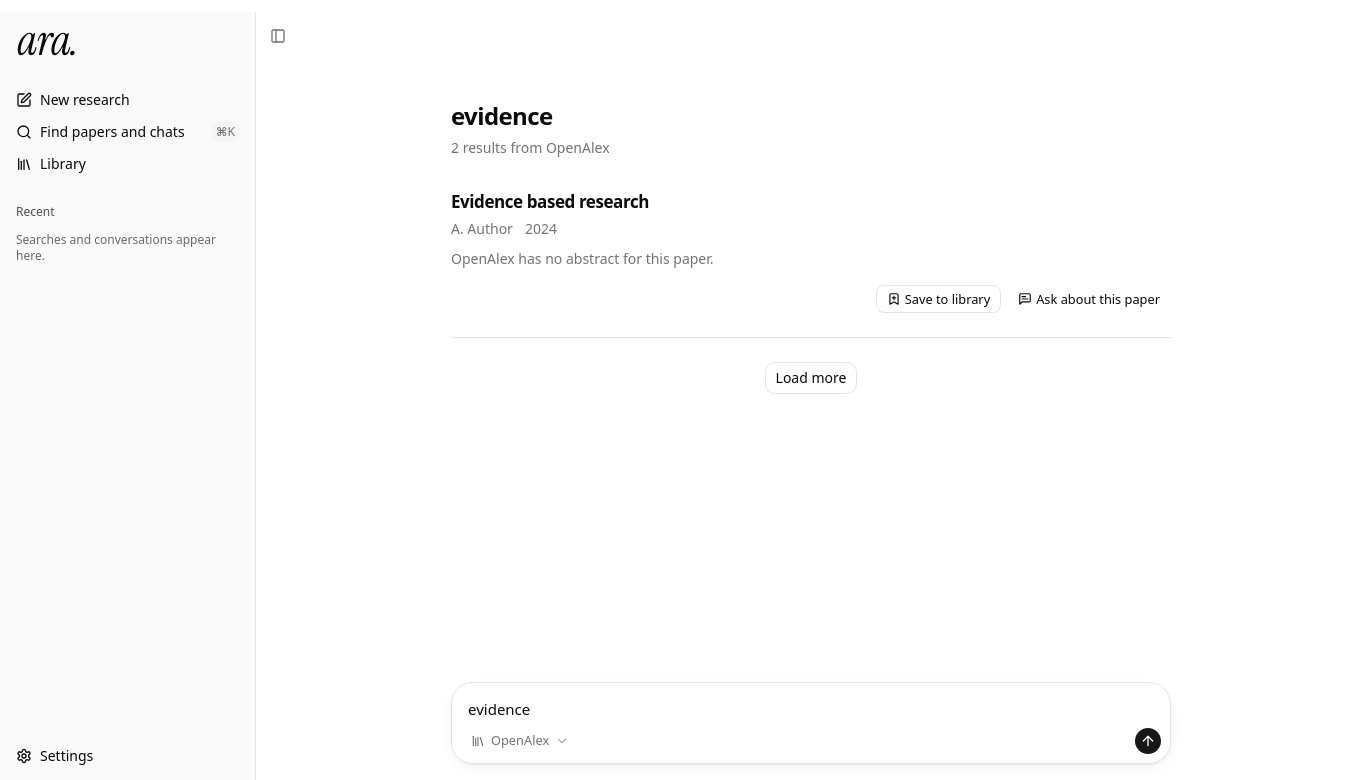
Test case: Given Load more fails, Then the loaded results stay and Try again fetches the next page
Click the button "Load more".
click(811, 378)  # box x1=765 y1=362 x2=858 y2=394
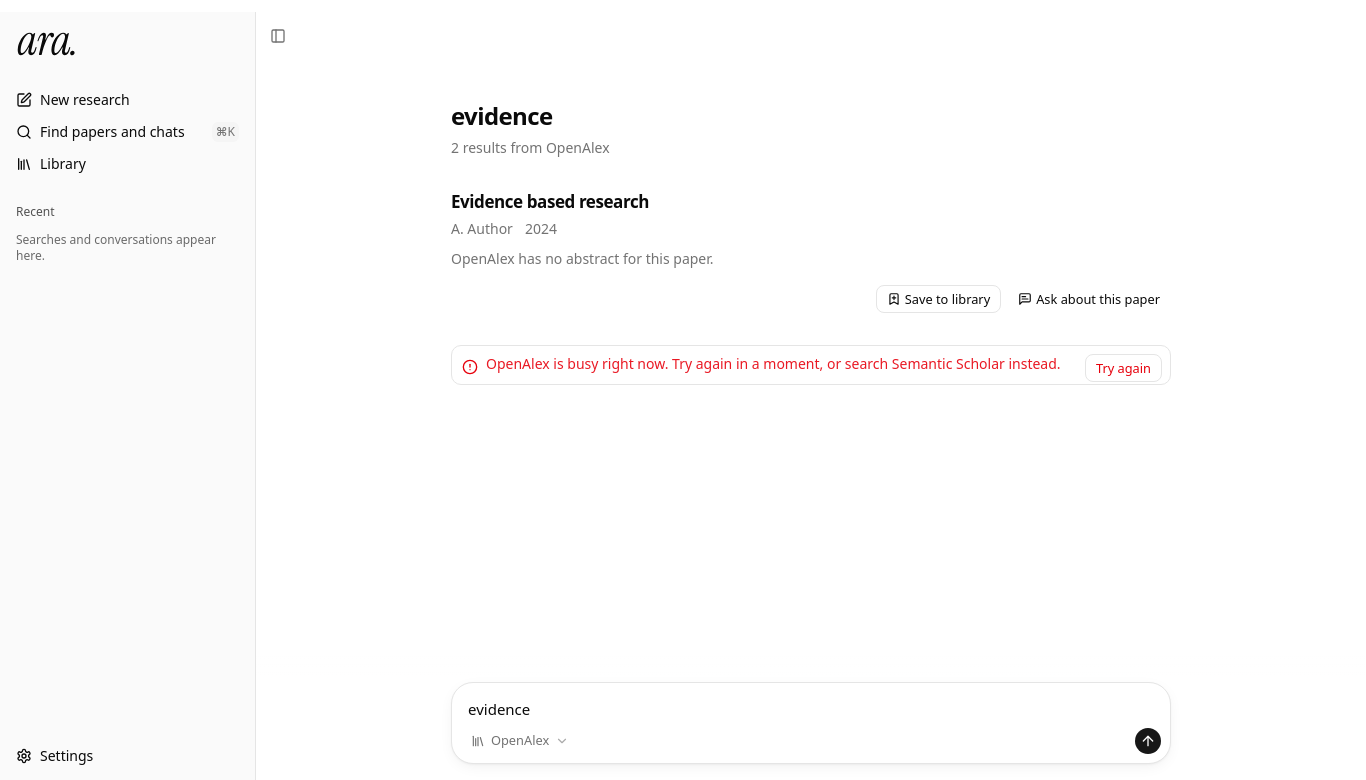
Expected: the element "Evidence based research" is shown, x1=451 y1=166 x2=1171 y2=337
Expected: the message shows "OpenAlex is busy", x1=486 y1=354 x2=1061 y2=373
Expected: the button "Load more" is gone
Click the button "Try again".
click(1123, 368)  # box x1=1085 y1=354 x2=1162 y2=382
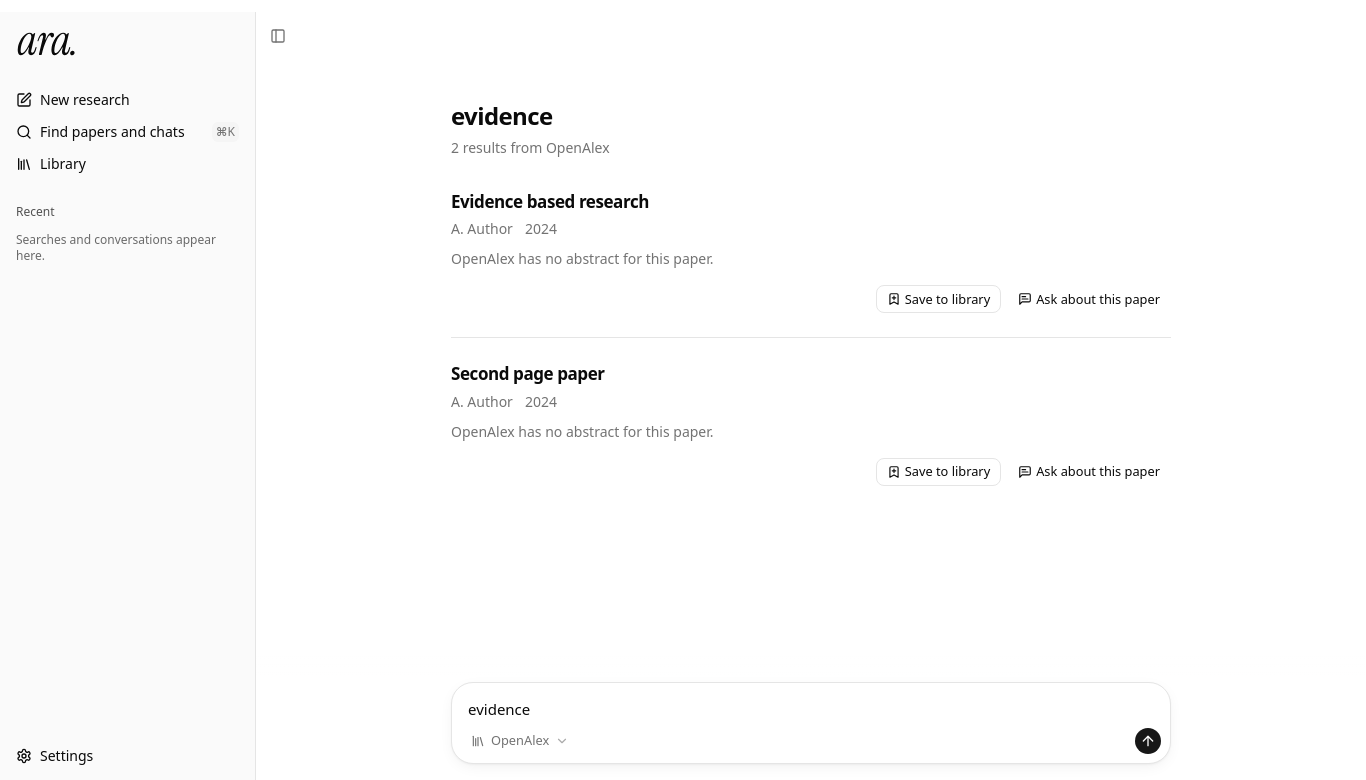
Expected: the element "Second page paper" is shown, x1=451 y1=338 x2=1171 y2=510
Expected: the message is gone
